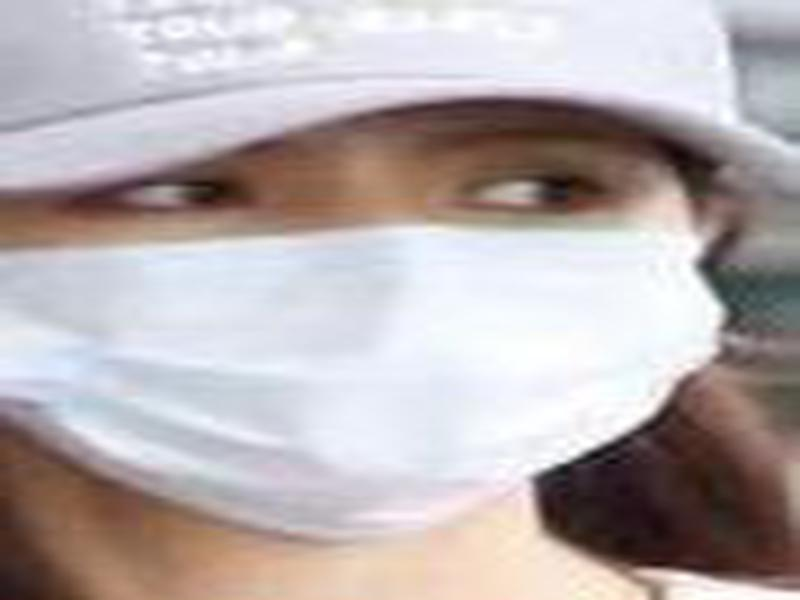with_mask: (1, 102, 733, 543)
